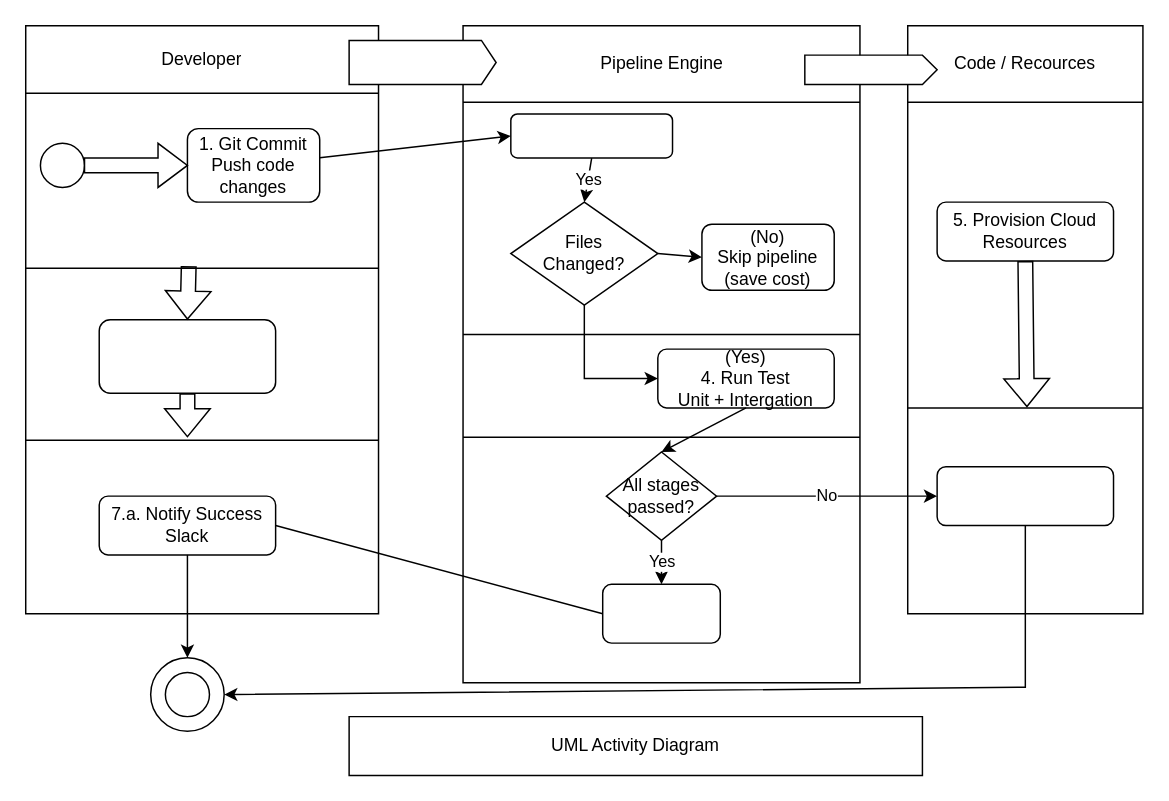
Some shapes in this 1169 by 801 pixel diagram are drawn without their labels. Each missing label, with the centre of its shape:
"2. Detect Changed Flies" belongs at point (591, 135).
"3. Build Affected Modules Only" belongs at point (187, 355).
"6. Deploy to Production" belongs at point (660, 613).
"7.b. Notify Failure & Rollback" belongs at point (1025, 495).
